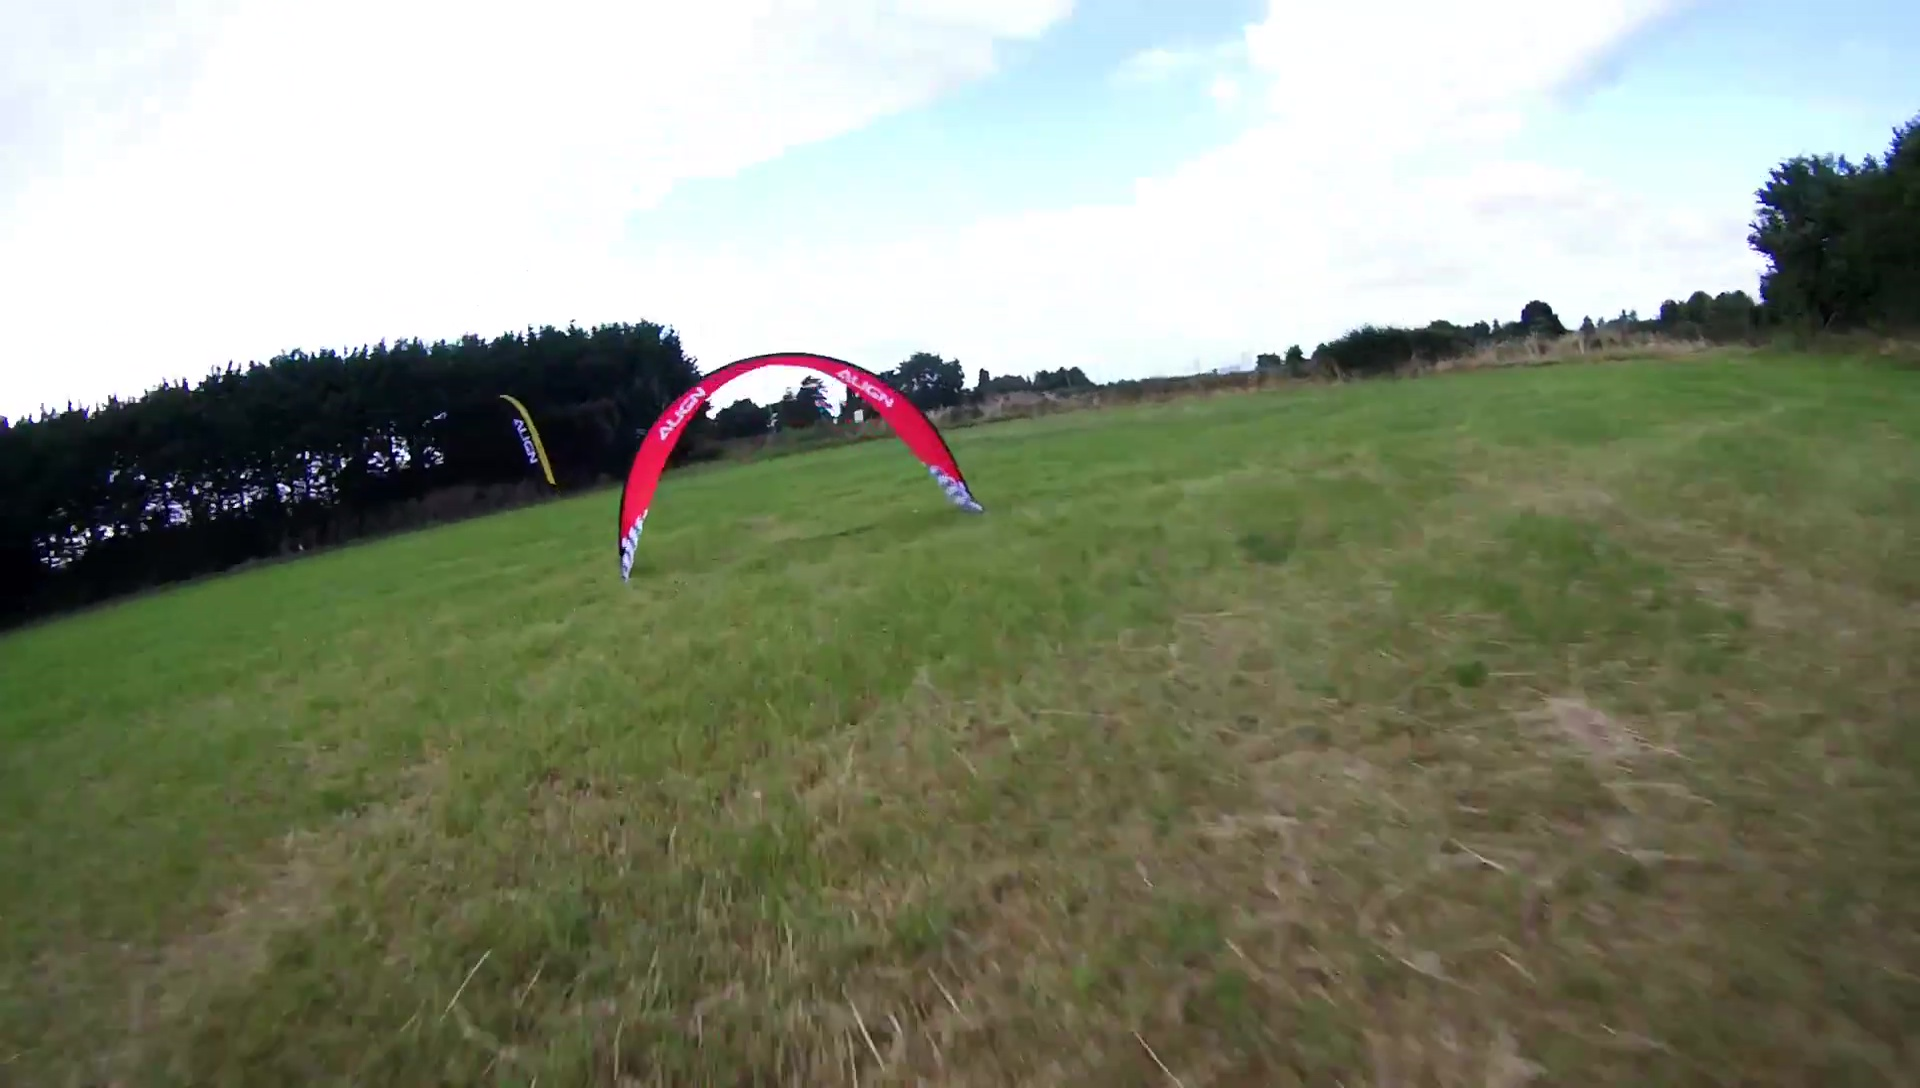gate: (618, 349, 985, 582)
